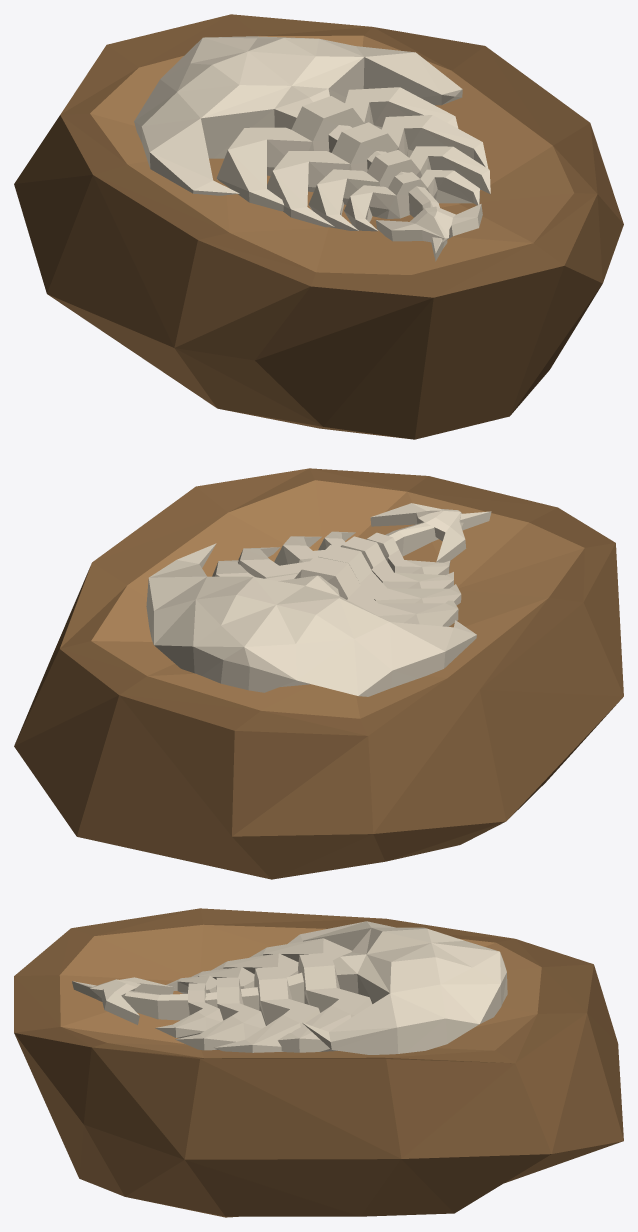
Rendered from Fossil 1.fbx.
The picture shows the model from 3 angles, top to bottom: view 1: azimuth 30°, elevation 25°; view 2: azimuth 150°, elevation 25°; view 3: azimuth 270°, elevation 25°; orthographic projection. The views are drawn at different scales.
Parts seen in each view (by area): view 1: pCube25, pCube9, pCube16, pCube17, pCube18, pCube19, pCube15; view 2: pCube25, pCube9, pCube16, pCube17, pCube18, pCube15, pCube19; view 3: pCube25, pCube9, pCube16, pCube17, pCube18, pCube19, pCube15.
Part boxes in pixels (x1,y1,x2,y2): pCube25: [14, 14, 623, 439]; pCube9: [134, 36, 462, 261]; pCube16: [216, 87, 458, 211]; pCube17: [267, 115, 488, 227]; pCube18: [308, 146, 490, 230]; pCube19: [344, 169, 479, 231]; pCube15: [376, 204, 482, 242]; pCube25: [14, 468, 623, 879]; pCube9: [146, 511, 491, 696]; pCube16: [212, 556, 458, 626]; pCube17: [238, 545, 461, 605]; pCube18: [274, 536, 453, 588]; pCube15: [370, 503, 466, 562]; pCube19: [318, 531, 450, 575]; pCube25: [14, 908, 623, 1217]; pCube9: [72, 921, 507, 1054]; pCube16: [249, 938, 372, 1052]; pCube17: [211, 953, 319, 1052]; pCube18: [175, 967, 265, 1050]; pCube19: [155, 975, 223, 1038]; pCube15: [90, 977, 174, 1024].
Size of the model in its own units: 1.91 by 1.12 by 2.47.
